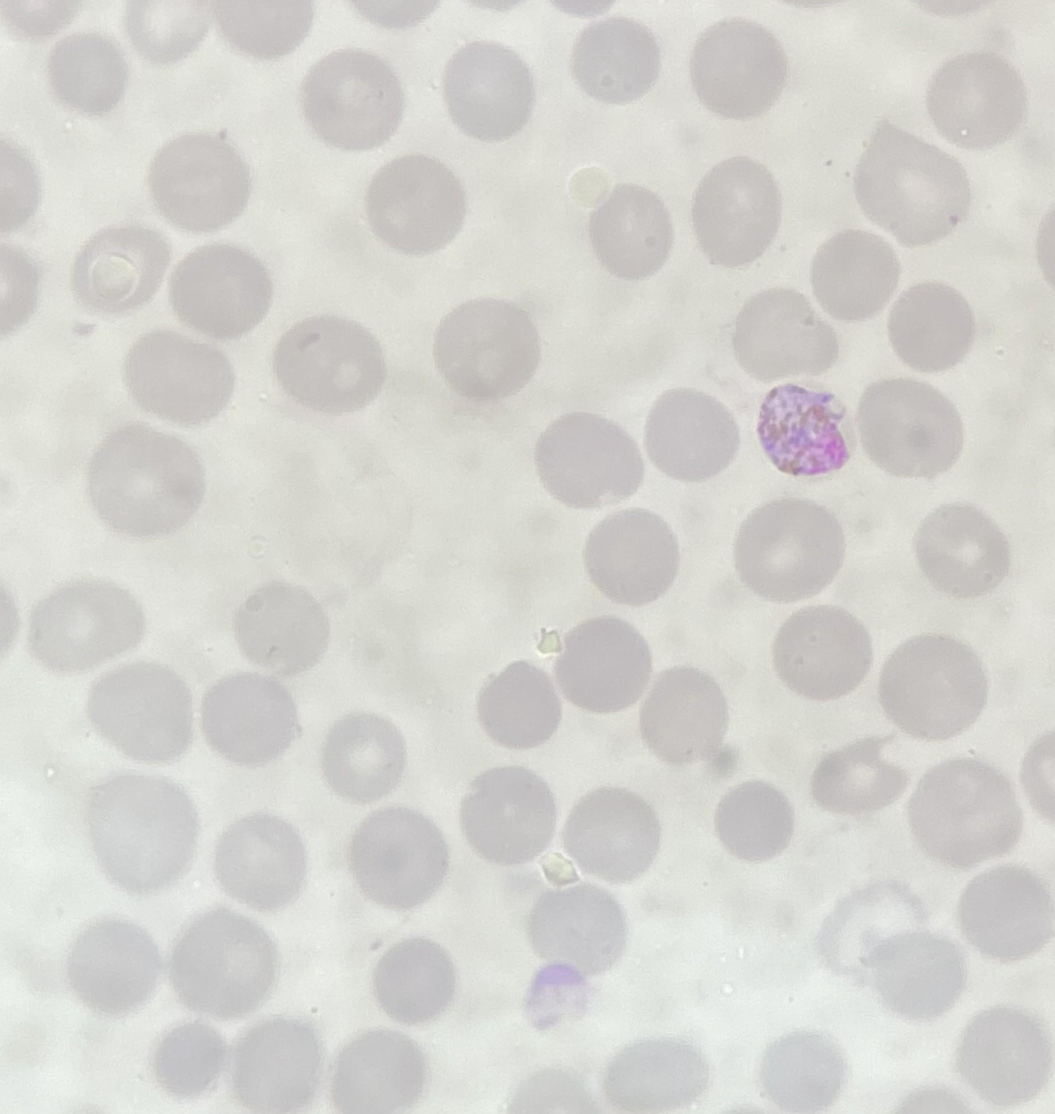Infected: (759, 383, 846, 479)
Uninfected: (853, 122, 970, 246), (84, 772, 201, 890), (85, 423, 206, 537), (906, 757, 1020, 867), (168, 905, 279, 1016), (83, 659, 197, 764), (733, 499, 847, 603), (271, 313, 388, 414), (877, 632, 986, 738), (431, 298, 539, 403), (119, 327, 232, 425), (363, 152, 469, 256), (815, 882, 927, 980), (146, 130, 253, 231), (532, 412, 643, 509), (344, 805, 448, 908), (856, 376, 962, 476), (28, 579, 140, 673), (768, 605, 874, 703), (167, 242, 273, 338), (730, 287, 837, 381), (688, 18, 788, 118), (551, 615, 652, 714), (690, 159, 783, 266), (210, 812, 309, 912), (459, 769, 558, 868), (305, 47, 399, 151), (64, 916, 163, 1014), (198, 673, 300, 767), (440, 41, 536, 139), (580, 508, 678, 604), (912, 500, 1010, 596), (561, 787, 659, 883), (927, 50, 1026, 145), (526, 882, 627, 975), (231, 583, 330, 676), (643, 387, 739, 482), (953, 865, 1048, 960), (227, 1019, 323, 1113), (954, 1006, 1046, 1104), (861, 930, 965, 1016), (637, 668, 729, 765), (73, 226, 170, 315), (808, 228, 898, 320), (570, 17, 663, 106), (587, 185, 675, 278), (600, 1036, 704, 1114), (332, 1029, 429, 1112), (885, 281, 975, 370), (808, 736, 908, 816), (474, 660, 562, 750), (369, 937, 458, 1023), (319, 712, 408, 797), (758, 1031, 845, 1113), (712, 779, 795, 862), (47, 31, 129, 115), (152, 1019, 230, 1099), (209, 2, 311, 59), (127, 3, 210, 64)
